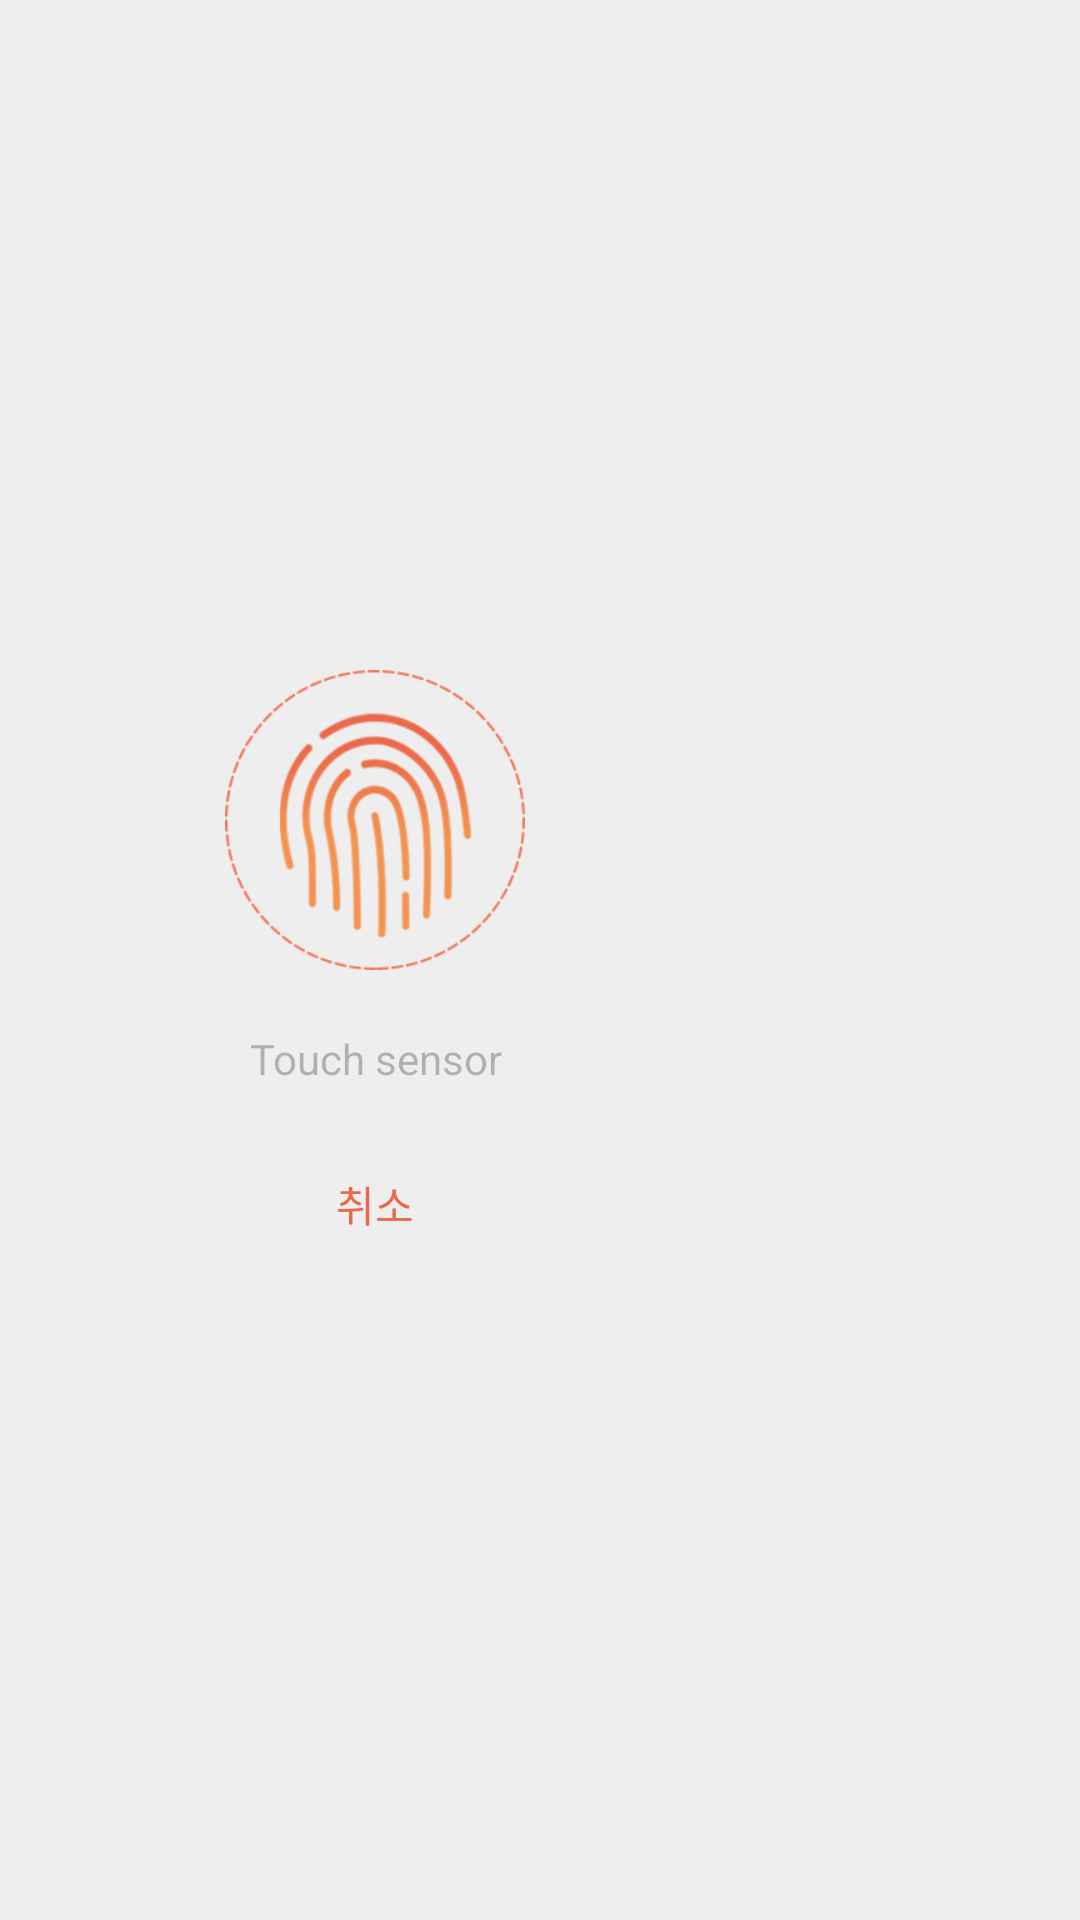

Icons on this 1080×1920 Android screen, each with the point to tap as (x,y):
fingerprint authed: (375,820)
